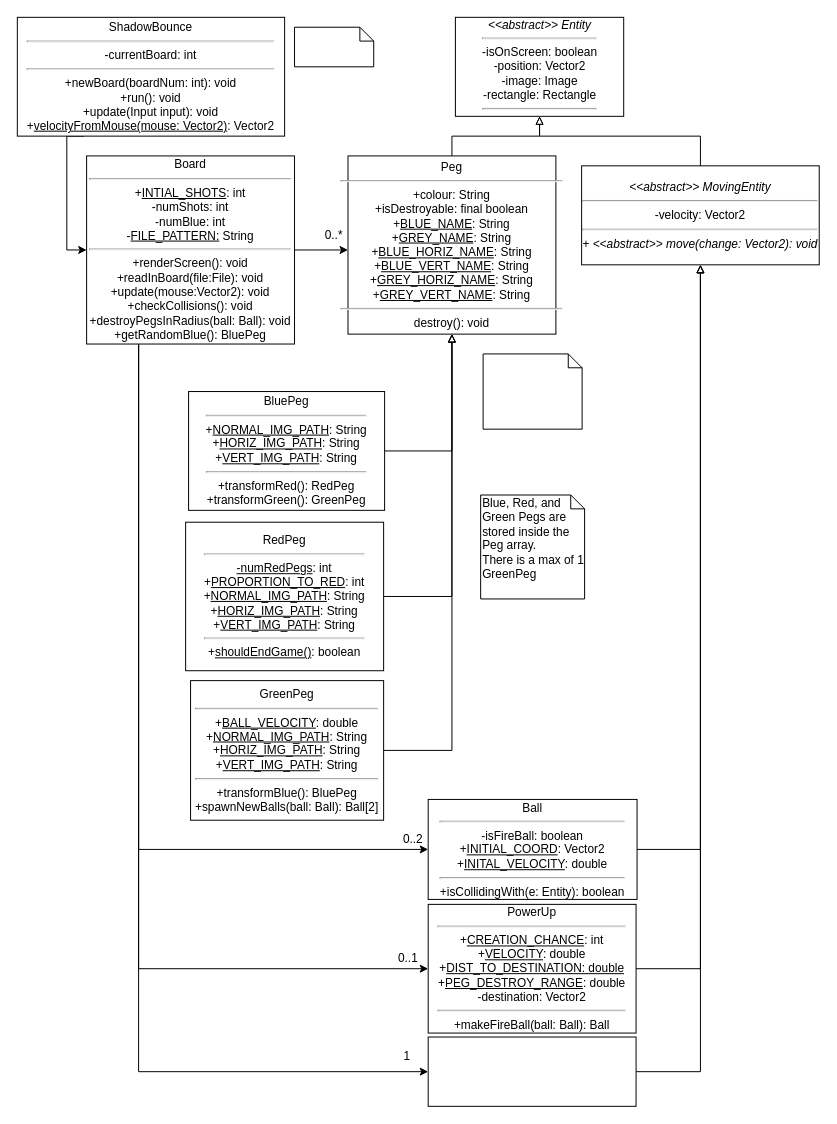
This 837x1124 diagram has some shape labels left out. The centre of each missing label's shape, as x and y in pixels:
"Bucket + BUCKET_SPEED : double + BUCKET_START_COORD : Vector2" goes at (531,1071).
"game starts here in run()" goes at (334,46).
"Grey Pegs are simply Pegs, and their destroy method does nothing" goes at (532,391).
